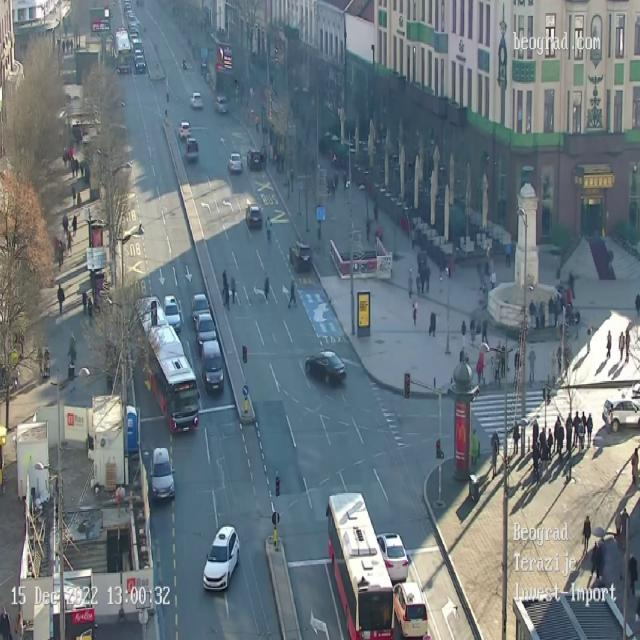bus: (326, 492, 395, 640), (132, 298, 198, 431), (116, 26, 132, 77)
car: (202, 524, 240, 592), (394, 575, 427, 640), (375, 533, 410, 582), (305, 349, 346, 382), (603, 395, 638, 430), (152, 446, 174, 500), (202, 340, 224, 391), (290, 240, 314, 281), (198, 317, 217, 347), (194, 293, 210, 322), (164, 297, 178, 329), (248, 205, 261, 234), (185, 140, 199, 163), (249, 150, 265, 170), (230, 154, 242, 175), (192, 90, 203, 108), (136, 39, 144, 58), (180, 120, 189, 136), (137, 59, 145, 76), (220, 98, 228, 112)
